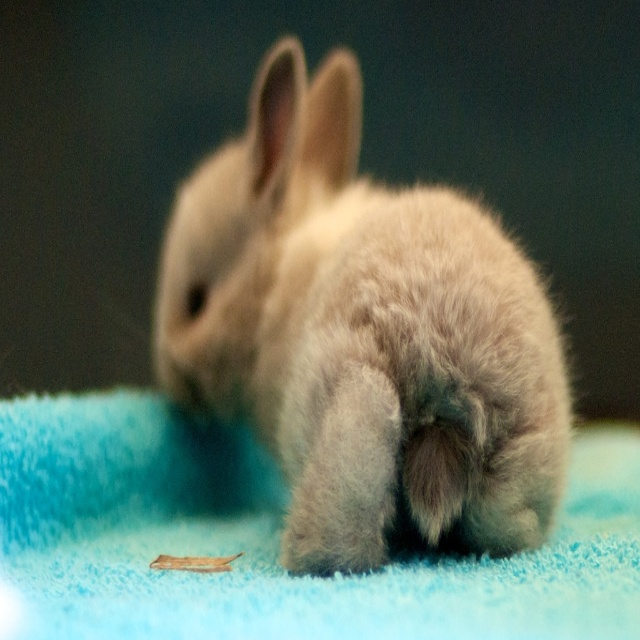Rabbit: (154, 38, 587, 573)
